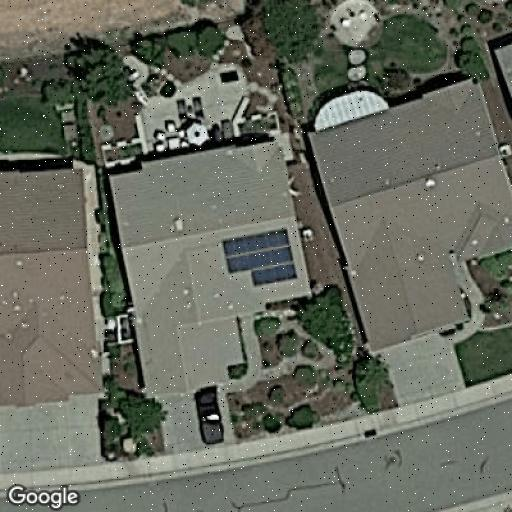solar-panel: (218, 228, 300, 288)
